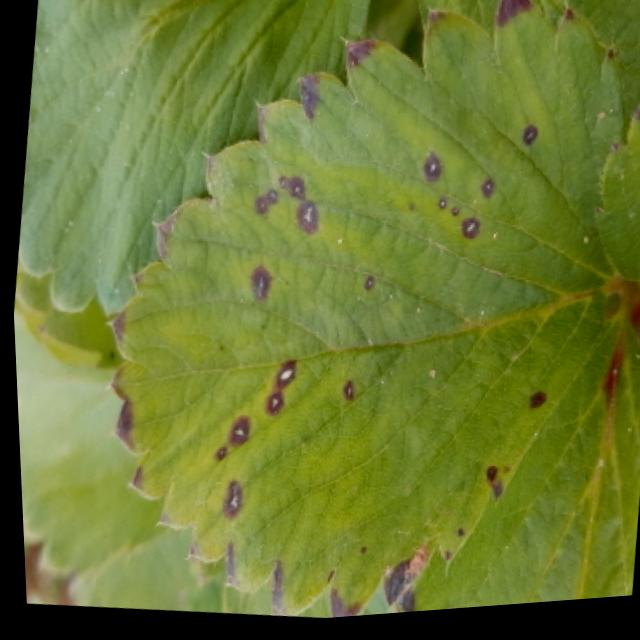Leaf Spot: (99, 0, 622, 623), (383, 316, 640, 619)
